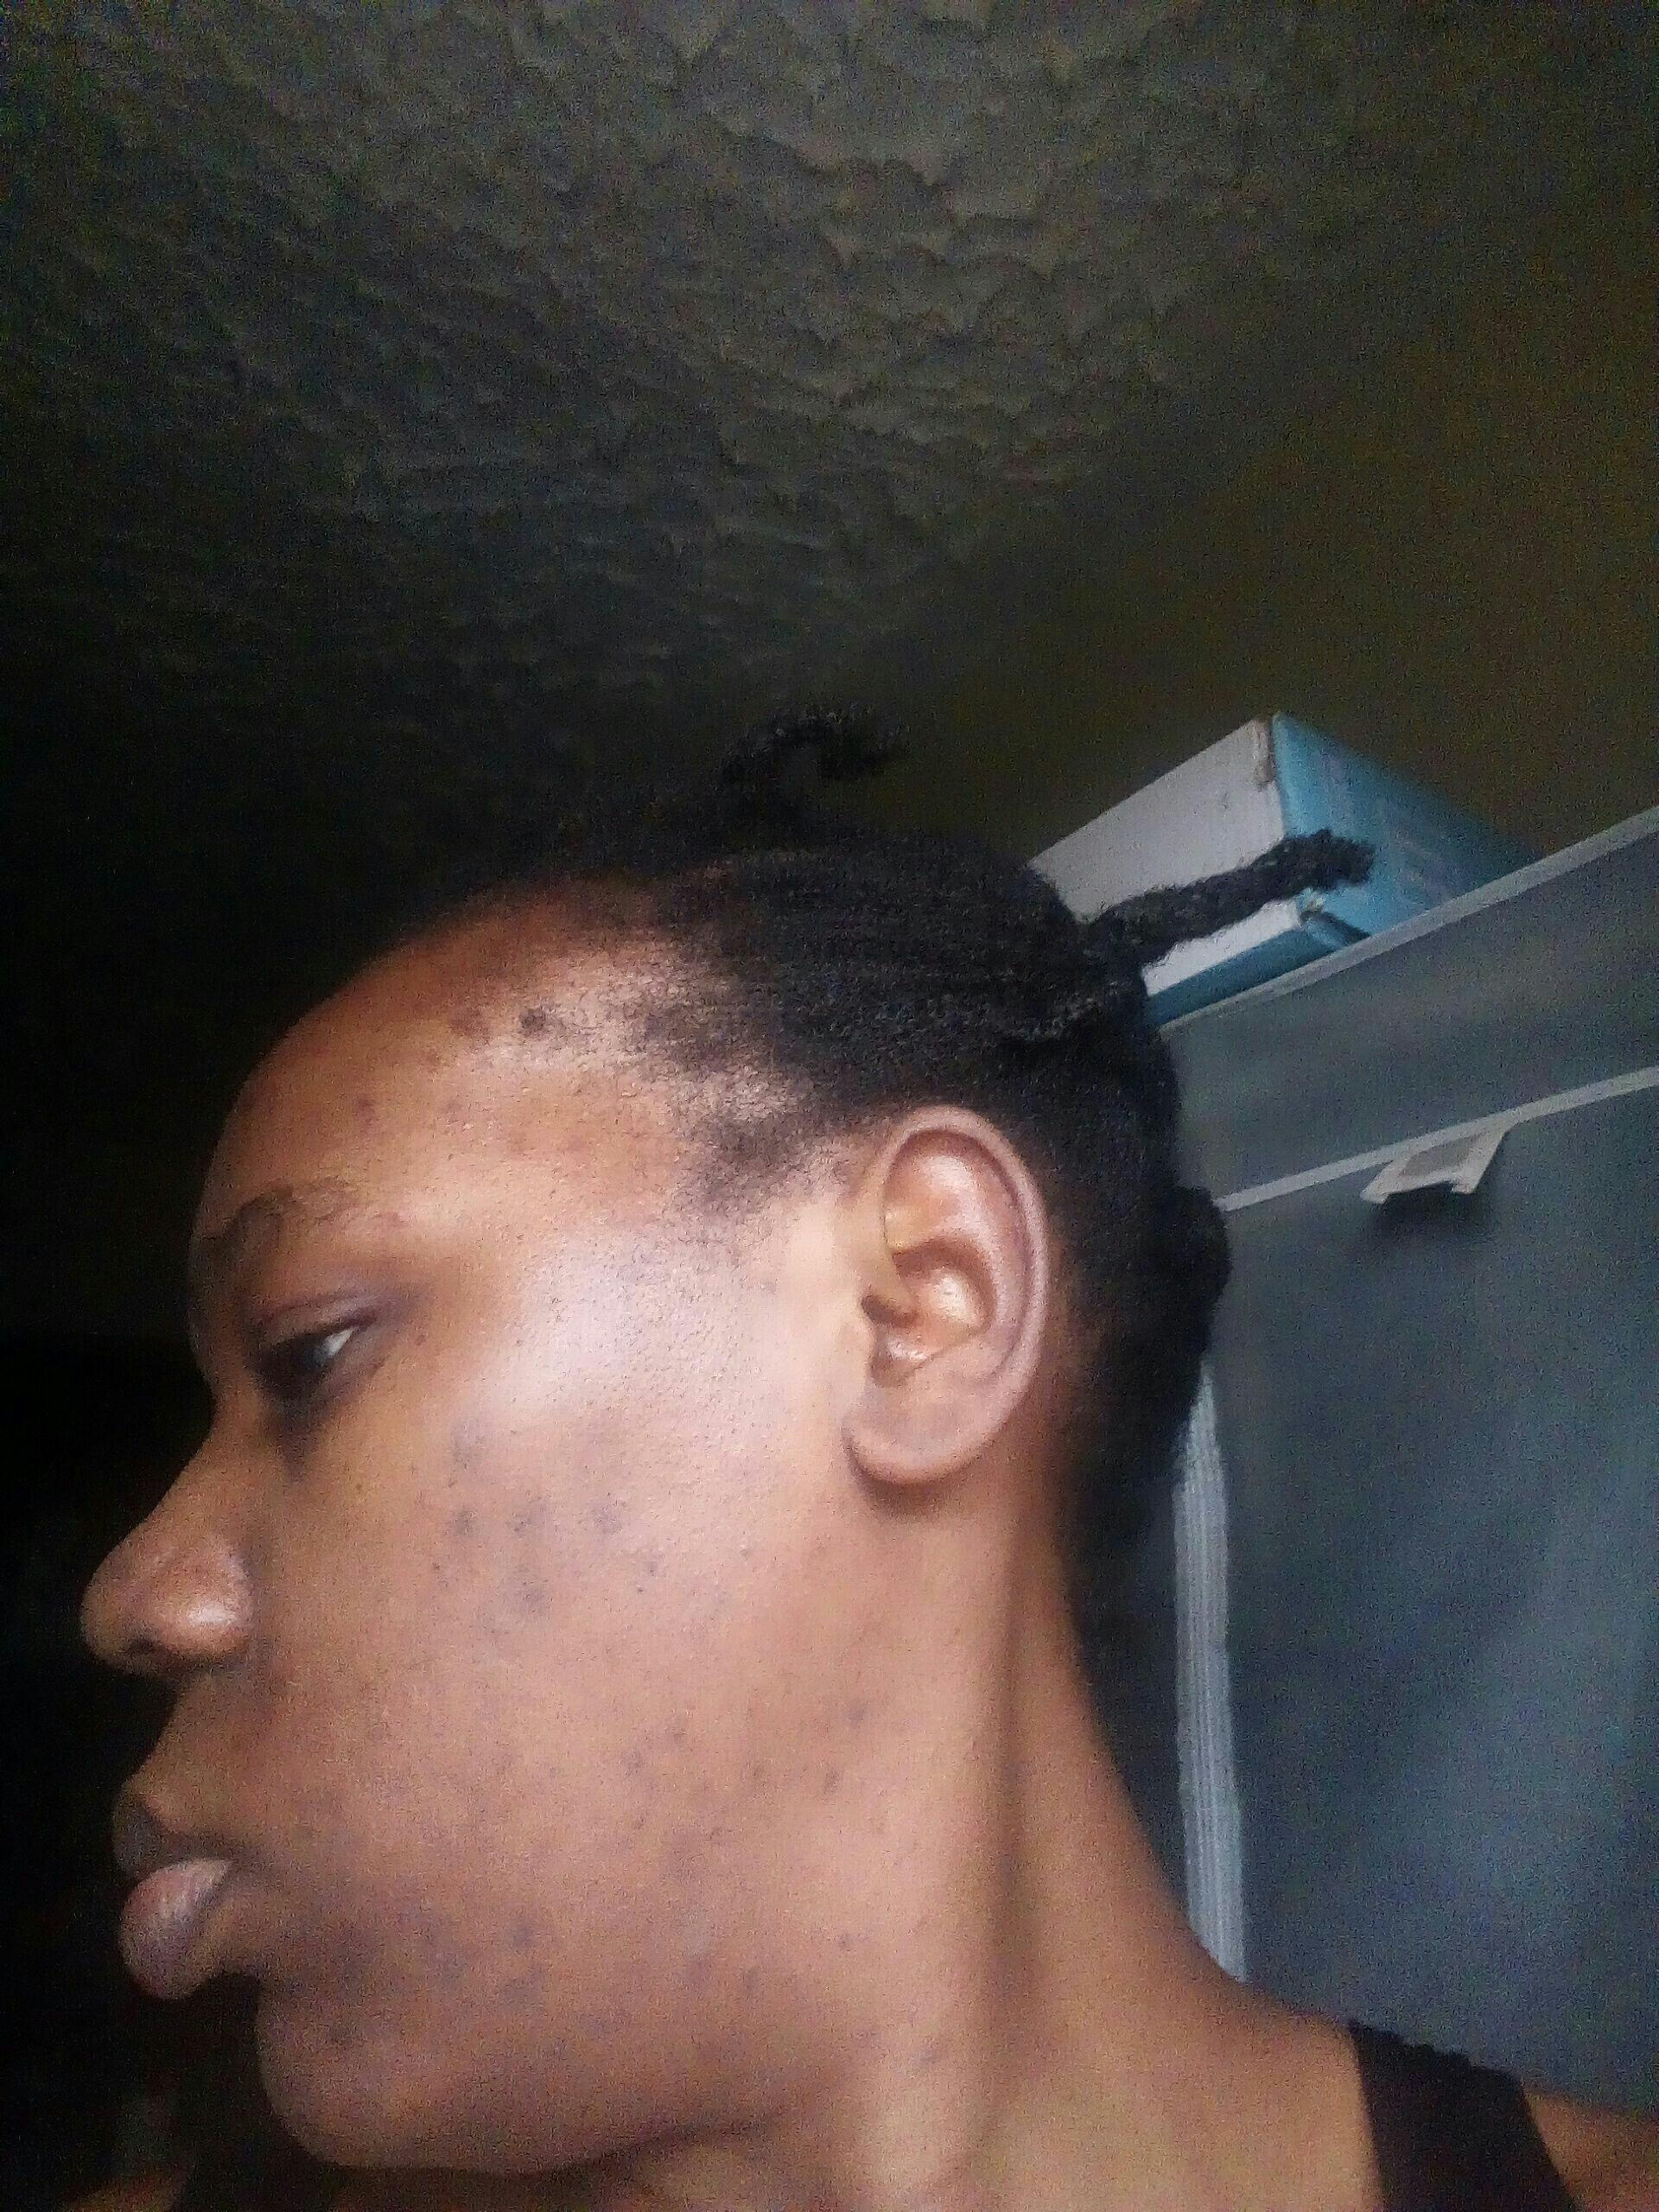Acne: (493, 1912, 568, 1972), (572, 1994, 650, 2047), (436, 1501, 497, 1561), (467, 1611, 523, 1665), (791, 1536, 842, 1592), (655, 1703, 708, 1756), (498, 1972, 547, 2020), (415, 1932, 467, 1977), (601, 1737, 655, 1780), (605, 1803, 659, 1846), (629, 1548, 676, 1597), (497, 1486, 549, 1529), (673, 1933, 720, 1980), (586, 1505, 631, 1554), (504, 1569, 554, 1613), (742, 1743, 781, 1799), (317, 2020, 369, 2060), (741, 1951, 782, 2000), (836, 1688, 878, 1735), (824, 1925, 871, 1965), (455, 1420, 505, 1454), (676, 1771, 720, 1806), (406, 1883, 448, 1918), (812, 1771, 849, 1801)
Eyebags: (260, 1404, 362, 1472)
